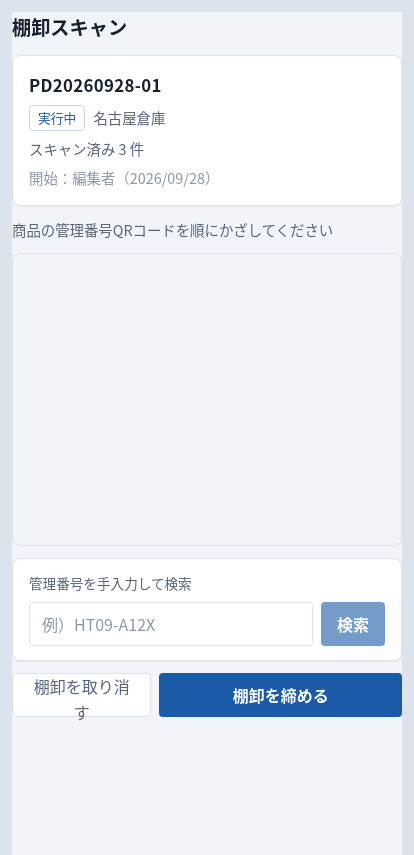
Test: stocktake session (M3-6) › records the item and derives the warnOtherWarehouse warning in the card
Type "HT09-A1X" into the field with id "stocktake-manual-input".
click(171, 624); type("HT09-A1X")  # box [29,602,313,646]
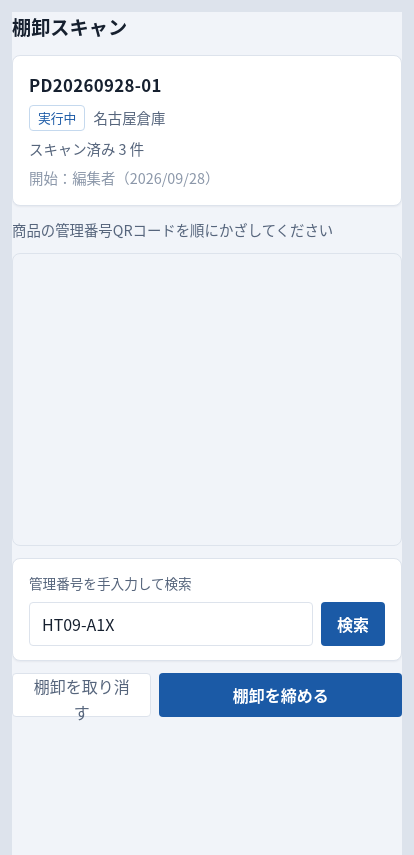
Submit the form with class "session-manual", box [12,558,402,662]
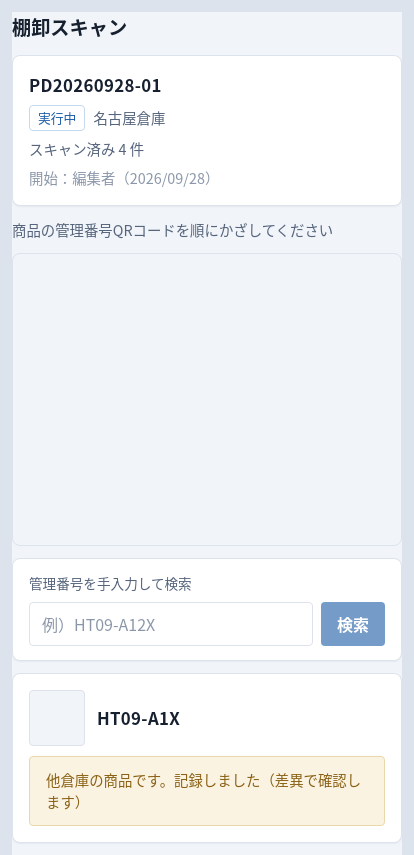
Check: the text "スキャン済み 4 件" is shown, box [29,138,144,159]
Check: the text with class "is-warning" shows "他倉庫の商品です", box [46,770,361,812]
